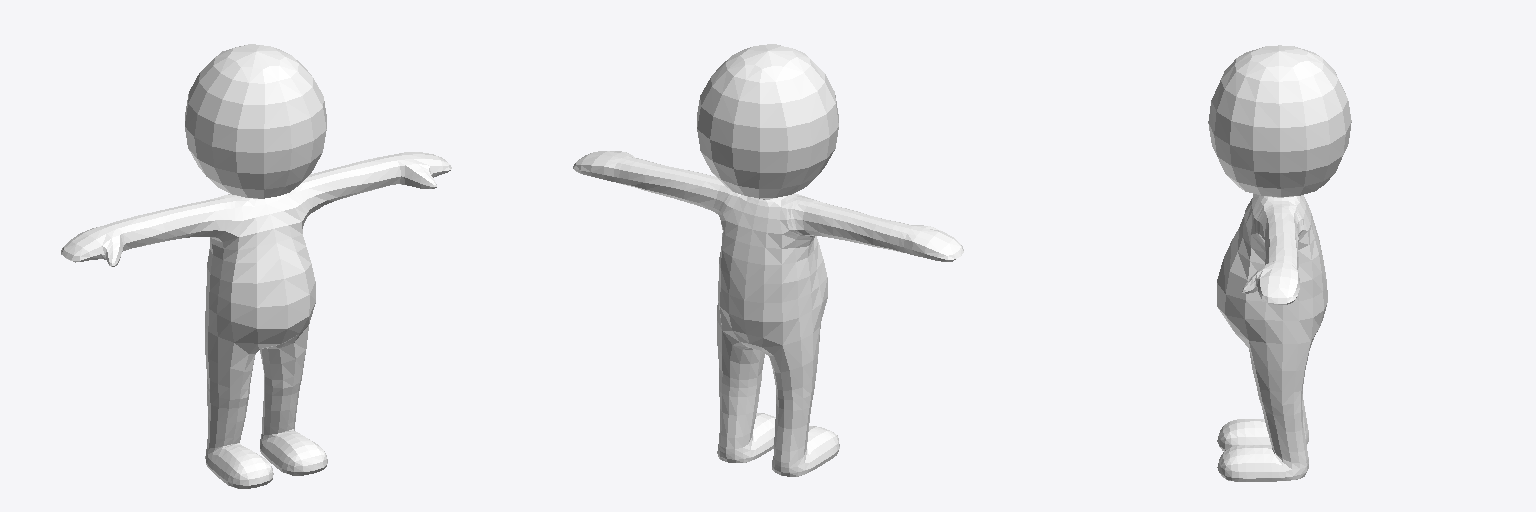
File: Fat_Stickman.obj
The picture shows the model from 3 angles: view 1: azimuth 30°, elevation 25°; view 2: azimuth 150°, elevation 25°; view 3: azimuth 270°, elevation 25°; orthographic projection.
Parts seen in each view (by area): view 1: FatGuy_Mesh.001; view 2: FatGuy_Mesh.001; view 3: FatGuy_Mesh.001.
Boxes of the visible parts, box(x1,y1,x2,y2) form: FatGuy_Mesh.001: box(61, 44, 451, 488); FatGuy_Mesh.001: box(573, 44, 963, 476); FatGuy_Mesh.001: box(1208, 45, 1351, 481).
Bounding box in the file's own units: 94.86 × 96.75 × 30.7.